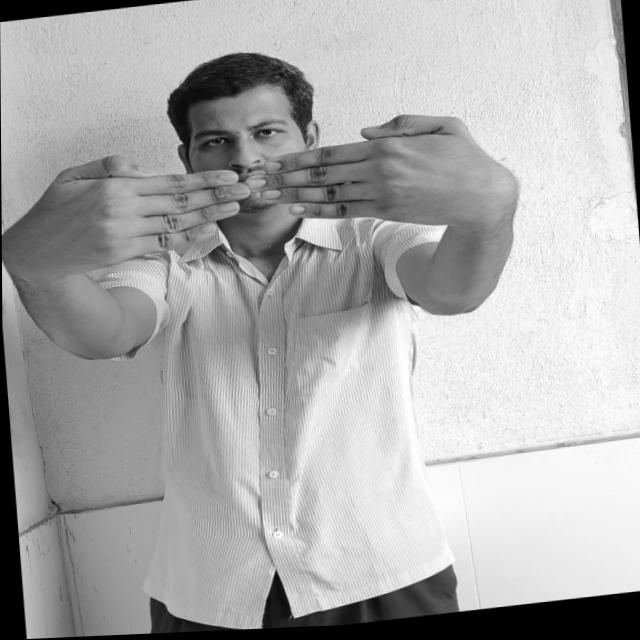Night: (1, 110, 494, 281)
